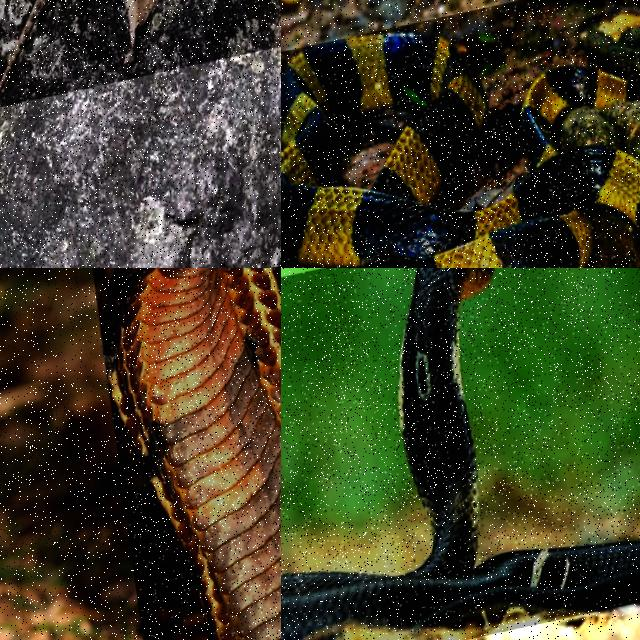Bungarus fasciatus: (281, 33, 639, 267)
Naja kaouthia: (281, 268, 639, 639)
Ophiophagus hannah: (98, 268, 280, 639)
Ovophis monticola: (0, 0, 55, 94)
snake: (281, 268, 639, 639), (281, 33, 639, 267), (98, 268, 280, 639), (0, 0, 55, 94)
